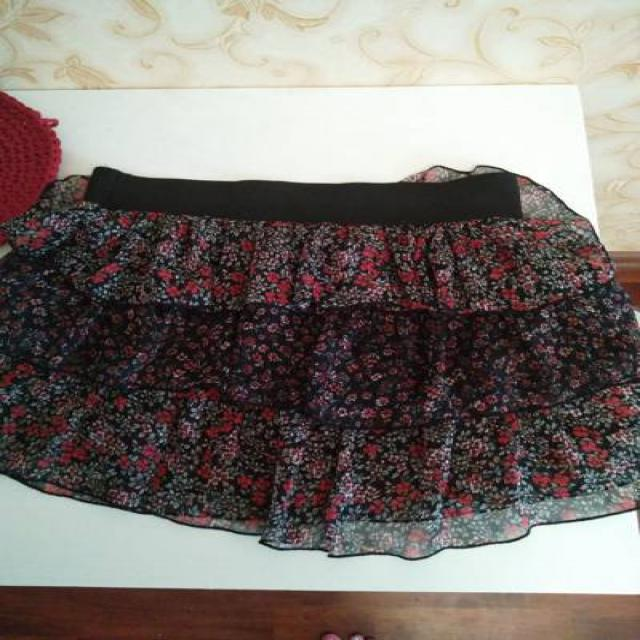Clothes -Biodegradable-: (0, 160, 640, 560)
